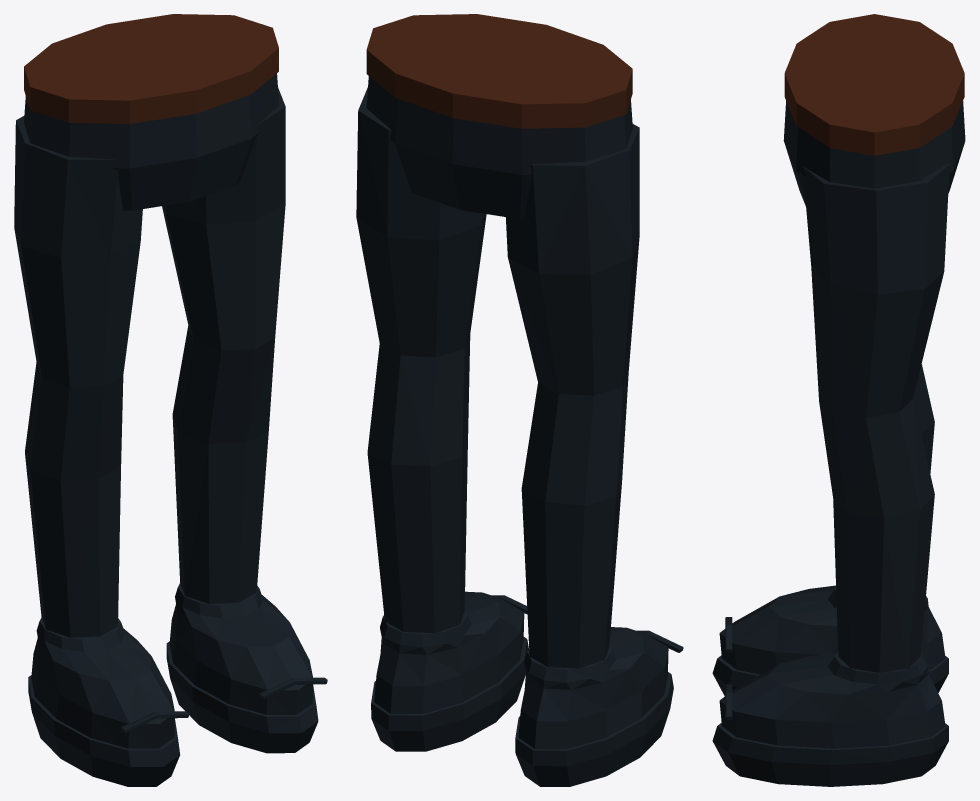
The model's file is EP_Lower_DressTrousers.fbx.
The picture shows the model from 3 angles, left to right: view 1: azimuth 30°, elevation 25°; view 2: azimuth 150°, elevation 25°; view 3: azimuth 270°, elevation 25°; orthographic projection. The views are drawn at different scales.
Parts seen in each view (by area): view 1: EP_Lower_DressTrousers; view 2: EP_Lower_DressTrousers; view 3: EP_Lower_DressTrousers.
Boxes of the visible parts, box(x1,y1,x2,y2) form: EP_Lower_DressTrousers: box(14, 14, 327, 786); EP_Lower_DressTrousers: box(356, 14, 683, 786); EP_Lower_DressTrousers: box(712, 14, 965, 786).
Size of the model in its own units: 0.3799 by 0.928 by 0.323.
